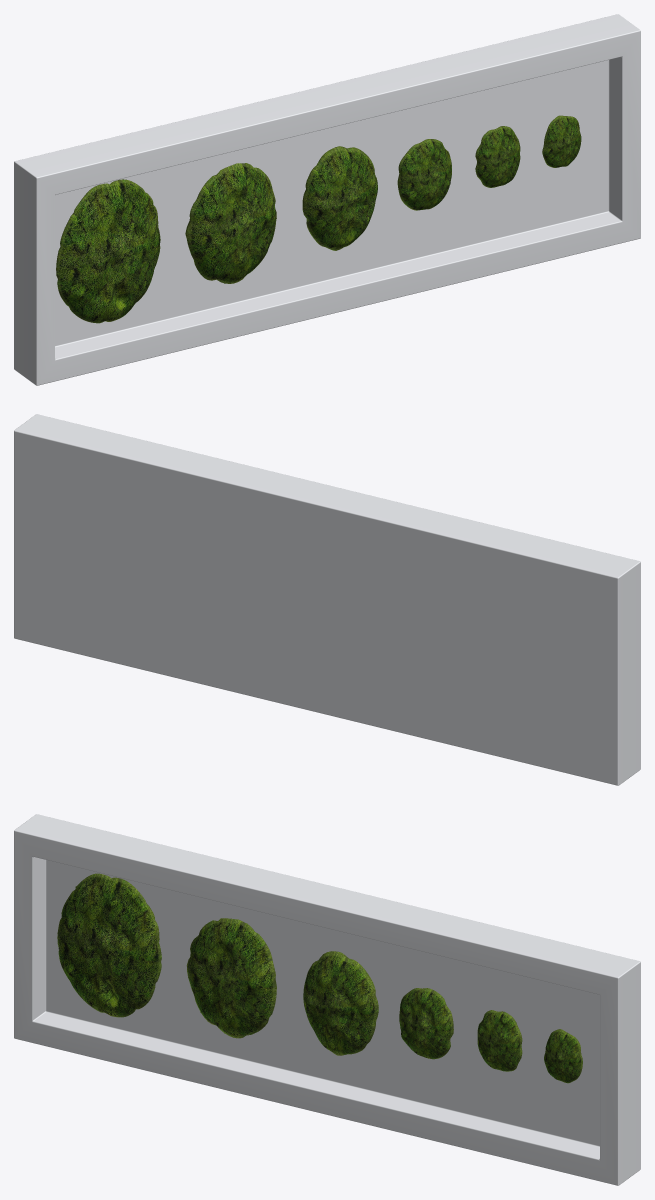
The model's file is abo-B073P1H5W3.glb.
The picture shows the model from 3 angles, top to bottom: view 1: azimuth 30°, elevation 25°; view 2: azimuth 150°, elevation 25°; view 3: azimuth 330°, elevation 25°; orthographic projection.
Bounding box in the file's own units: 0.759 × 0.25 × 0.05.
1 material, 1 textured.
